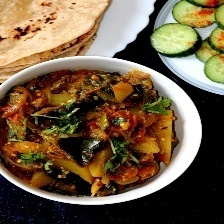sabzi: (0, 62, 188, 202)
